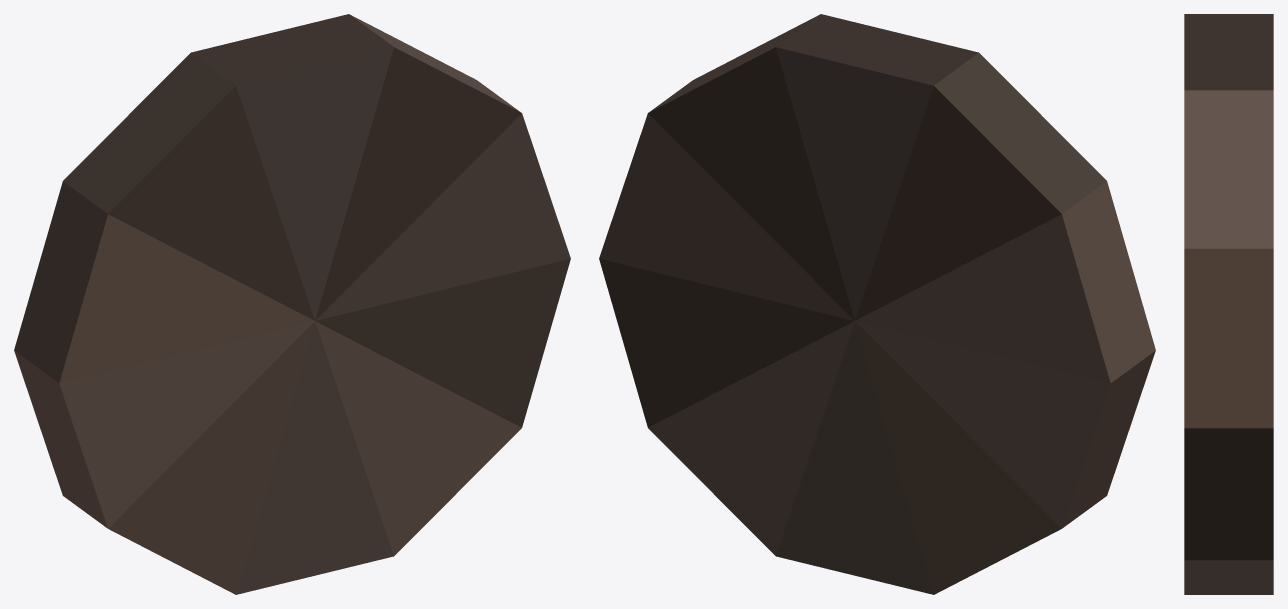
The model's file is Prop_WaterWheelLOD2.fbx.
The picture shows the model from 3 angles, left to right: view 1: azimuth 30°, elevation 25°; view 2: azimuth 150°, elevation 25°; view 3: azimuth 270°, elevation 25°; orthographic projection.
Visible parts, largest first — view 1: Prop_WaterWheelLOD2; view 2: Prop_WaterWheelLOD2; view 3: Prop_WaterWheelLOD2.
Part boxes in pixels (left/top/right/bottom): Prop_WaterWheelLOD2: left=14, top=14, right=570, bottom=594; Prop_WaterWheelLOD2: left=599, top=14, right=1155, bottom=594; Prop_WaterWheelLOD2: left=1184, top=14, right=1273, bottom=594.
Bounding box in the file's own units: 424 × 404 × 65.
